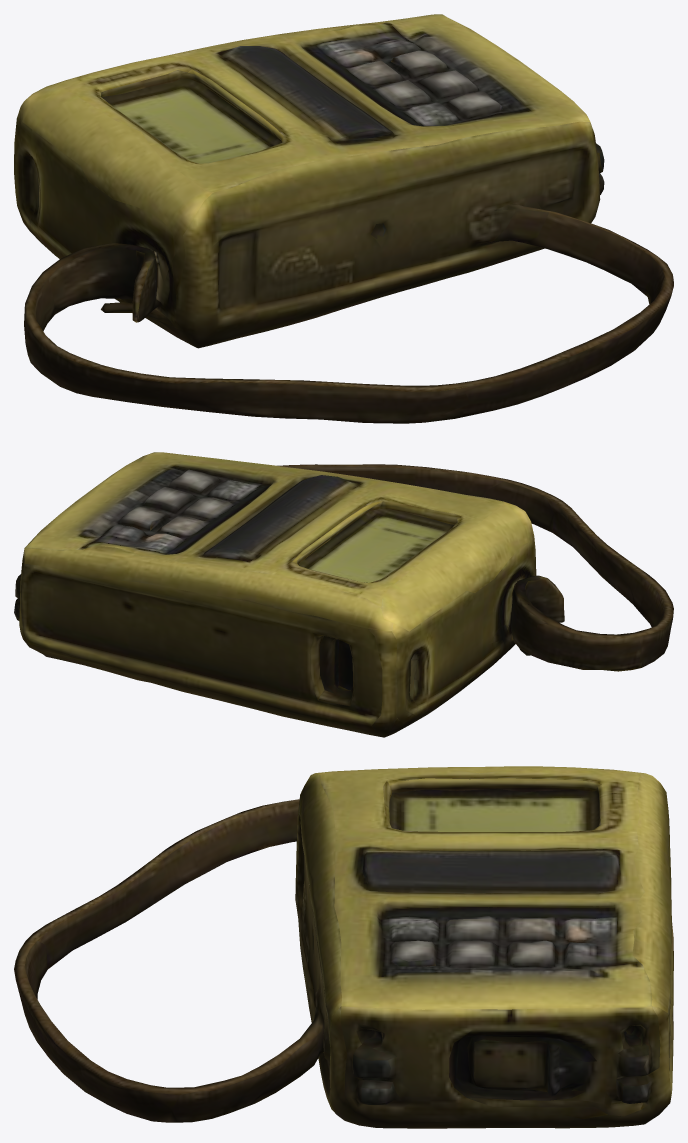
The model's file is bounty_ledger.glb.
3 renders of one model, top to bottom at view 1: azimuth 30°, elevation 25°; view 2: azimuth 150°, elevation 25°; view 3: azimuth 270°, elevation 25°, orthographic. The views are drawn at different scales.
Visible parts, largest first — view 1: geometry_0; view 2: geometry_0; view 3: geometry_0.
Boxes of the visible parts, bbox=[...] form: geometry_0: bbox=[14, 14, 673, 423]; geometry_0: bbox=[14, 452, 673, 737]; geometry_0: bbox=[14, 766, 673, 1128].
Size of the model in its own units: 1 by 0.2616 by 0.9292.
Materials: 1 (1 with a texture image).
